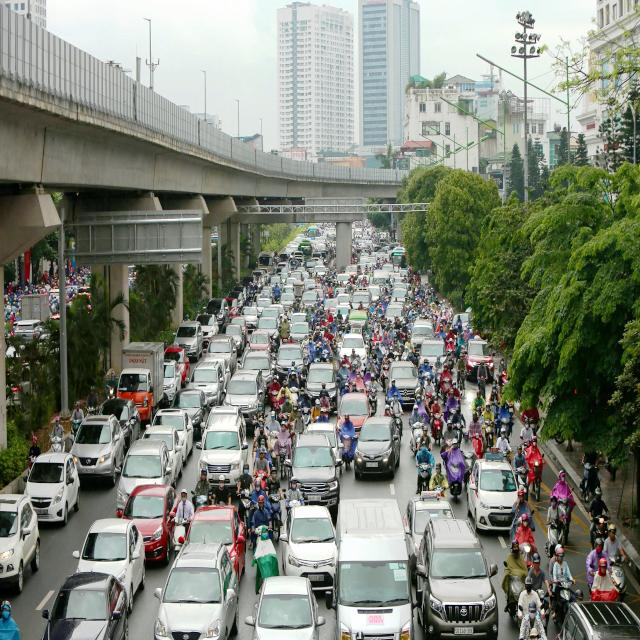Car: (415, 518, 499, 640), (327, 534, 415, 640), (153, 540, 240, 640), (72, 517, 146, 614), (41, 571, 129, 640), (279, 503, 338, 595), (244, 575, 326, 640), (181, 504, 246, 586), (118, 484, 181, 565), (402, 492, 457, 579), (284, 432, 342, 514), (116, 438, 173, 518), (24, 452, 80, 525), (466, 456, 519, 533), (0, 493, 40, 593), (70, 414, 125, 485), (197, 425, 249, 492), (556, 600, 640, 640), (354, 416, 402, 480), (142, 424, 184, 486), (222, 370, 265, 430), (97, 397, 141, 452), (151, 408, 194, 464), (305, 422, 344, 478), (115, 368, 154, 423), (171, 388, 209, 441), (202, 405, 248, 446), (305, 363, 339, 412), (336, 392, 372, 438), (387, 360, 421, 407), (187, 364, 224, 407), (241, 350, 274, 390), (206, 334, 237, 376), (274, 343, 305, 383), (174, 320, 204, 360), (196, 357, 230, 392), (466, 339, 494, 380), (164, 346, 190, 387), (338, 333, 368, 365), (162, 360, 182, 406), (419, 339, 446, 369), (410, 321, 434, 353), (222, 324, 246, 355), (12, 319, 44, 341), (206, 298, 230, 327), (196, 312, 219, 340), (256, 316, 280, 341), (383, 304, 405, 330), (288, 321, 310, 346), (248, 330, 272, 352), (350, 290, 372, 310), (241, 306, 259, 330), (450, 313, 470, 334), (280, 291, 296, 312), (390, 286, 408, 304), (367, 285, 382, 303)
